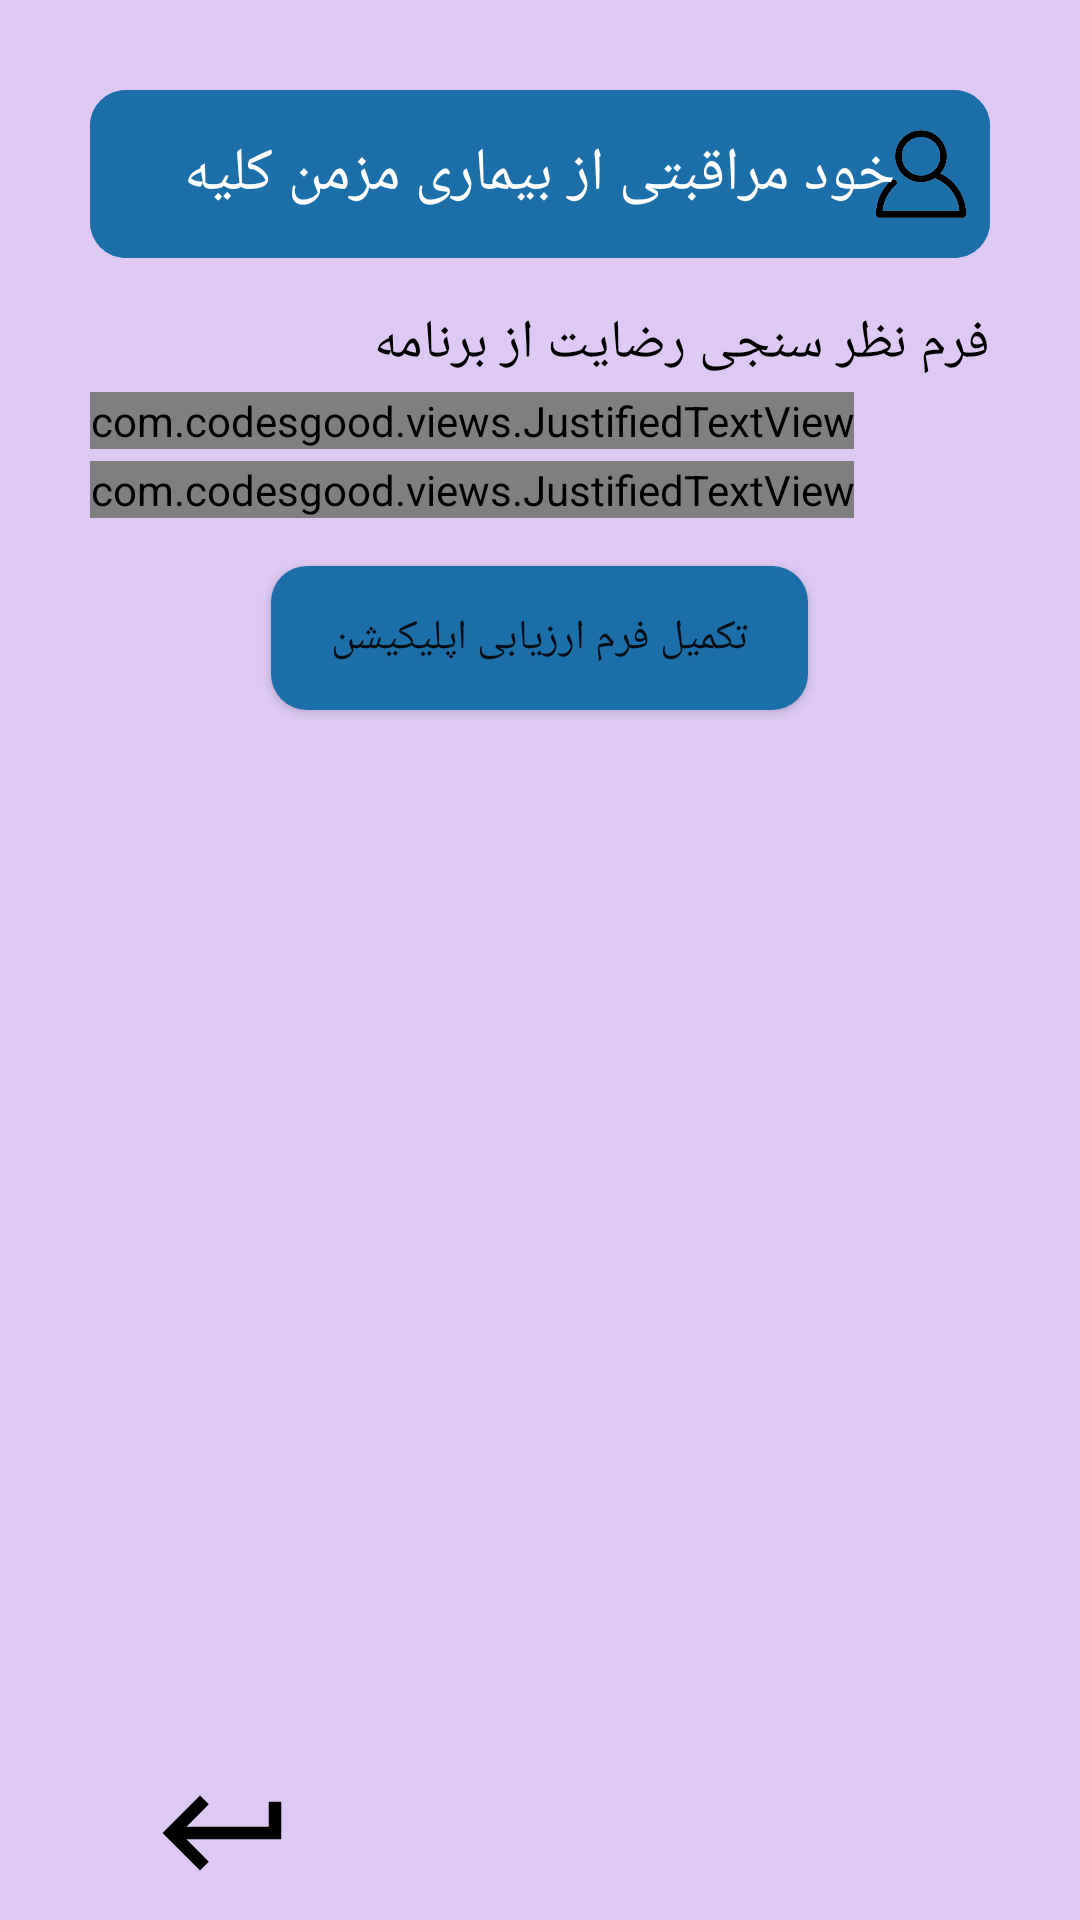

Where to tap for icons on this 1080*1920 app screen, as (x,y):
keyboard return: (222,1833)
